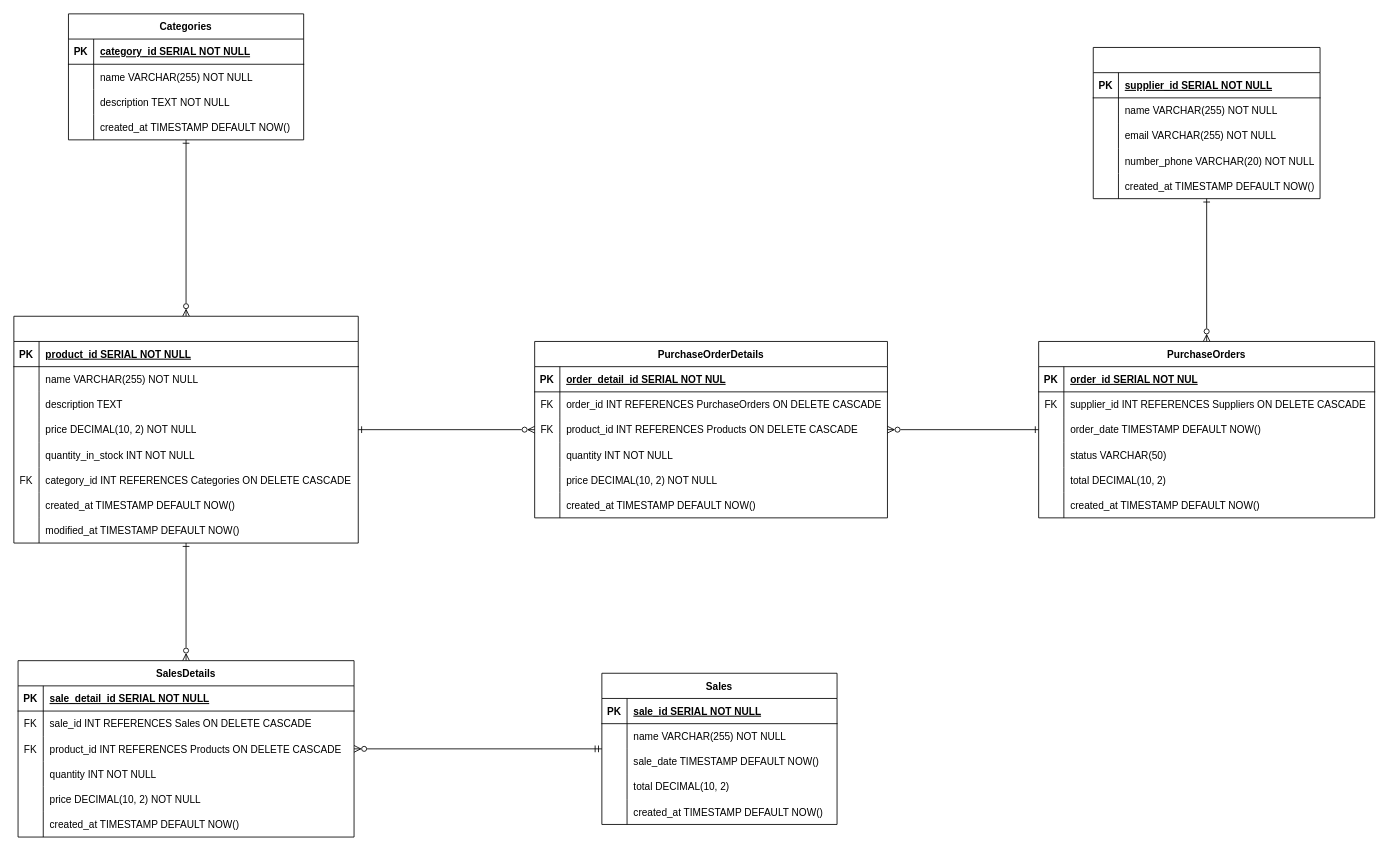
Some shapes in this 1389 by 851 pixel diagram are drawn without their labels. Here are the shapes that lost their labels. From the top down, the box of each, then its label:
(1092, 47, 1320, 199): Suppliers
(13, 315, 358, 543): Products
